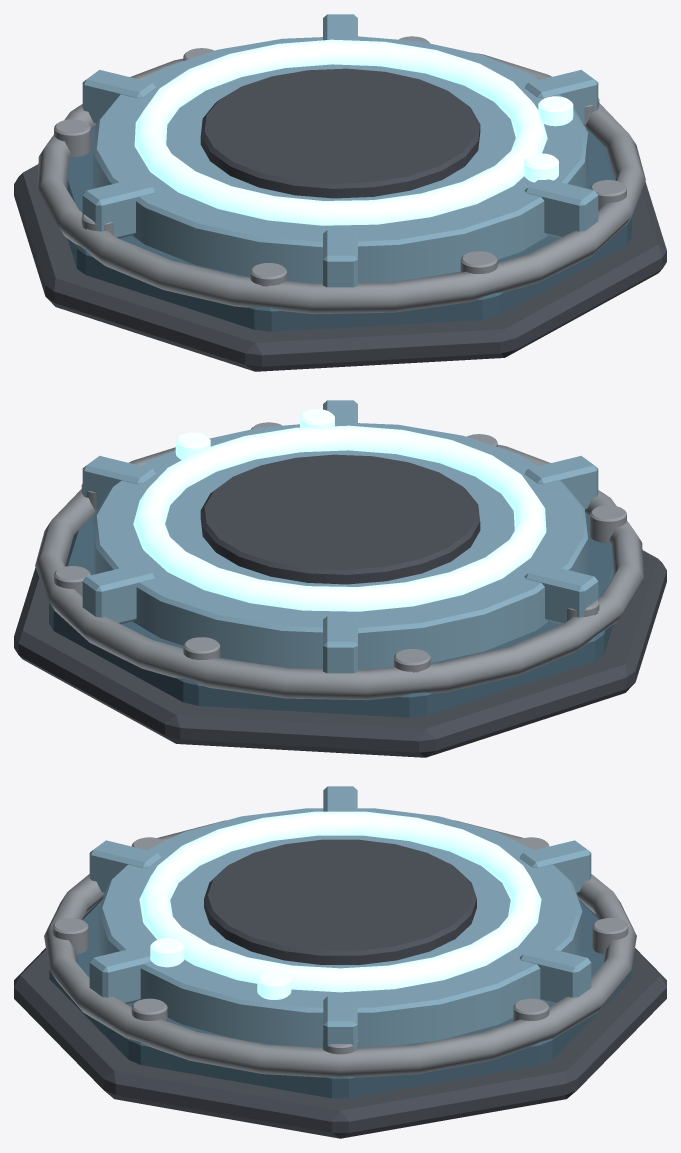
File: frost_base_l2.glb
3 renders of one model, top to bottom at view 1: azimuth 30°, elevation 25°; view 2: azimuth 150°, elevation 25°; view 3: azimuth 270°, elevation 25°, orthographic. The views are drawn at different scales.
Parts seen in each view (by area): view 1: Cylinder.002, Cylinder, Cylinder.003, Torus.001, Torus, Cylinder.001, Cube.005, Cube.003, Cube.002, Cube.004, Cube, Cylinder.007 (+6 smaller); view 2: Cylinder.002, Cylinder, Cylinder.003, Torus.001, Torus, Cylinder.001, Cube.001, Cube.003, Cube.004, Cube.002, Cube, Cylinder.009 (+6 smaller); view 3: Cylinder.002, Cylinder, Cylinder.003, Torus, Torus.001, Cylinder.001, Cube.001, Cube.005, Cube.002, Cube.004, Cube, Cylinder.006 (+6 smaller).
Part boxes in pixels (<box>): Cylinder.002: <box>93,36,587,283</box>; Cylinder: <box>14,164,666,371</box>; Cylinder.003: <box>200,68,480,198</box>; Torus.001: <box>134,39,547,225</box>; Torus: <box>37,52,645,314</box>; Cylinder.001: <box>67,127,631,331</box>; Cube.005: <box>524,179,598,237</box>; Cube.003: <box>82,177,156,238</box>; Cube.002: <box>82,69,156,123</box>; Cube.004: <box>323,229,357,287</box>; Cube: <box>524,69,598,123</box>; Cylinder.007: <box>54,119,90,157</box>; Cylinder.002: <box>93,423,587,669</box>; Cylinder: <box>14,550,666,757</box>; Cylinder.003: <box>200,454,480,584</box>; Torus.001: <box>133,425,546,611</box>; Torus: <box>35,444,643,700</box>; Cylinder.001: <box>49,513,613,717</box>; Cube.001: <box>82,563,156,623</box>; Cube.003: <box>524,563,598,624</box>; Cube.004: <box>524,455,598,509</box>; Cube.002: <box>323,615,357,673</box>; Cube: <box>82,455,156,509</box>; Cylinder.009: <box>590,505,626,543</box>; Cylinder.002: <box>98,808,582,1047</box>; Cylinder: <box>14,910,666,1138</box>; Cylinder.003: <box>204,839,476,964</box>; Torus: <box>44,820,636,1077</box>; Torus.001: <box>139,811,541,992</box>; Cylinder.001: <box>49,898,631,1098</box>; Cube.001: <box>519,945,591,1004</box>; Cube.005: <box>89,945,151,1004</box>; Cube.002: <box>519,840,591,893</box>; Cube.004: <box>89,840,161,893</box>; Cube: <box>323,996,357,1051</box>; Cylinder.006: <box>592,918,628,954</box>.
Size of the model in its own units: 2.11 by 0.4 by 2.11.
